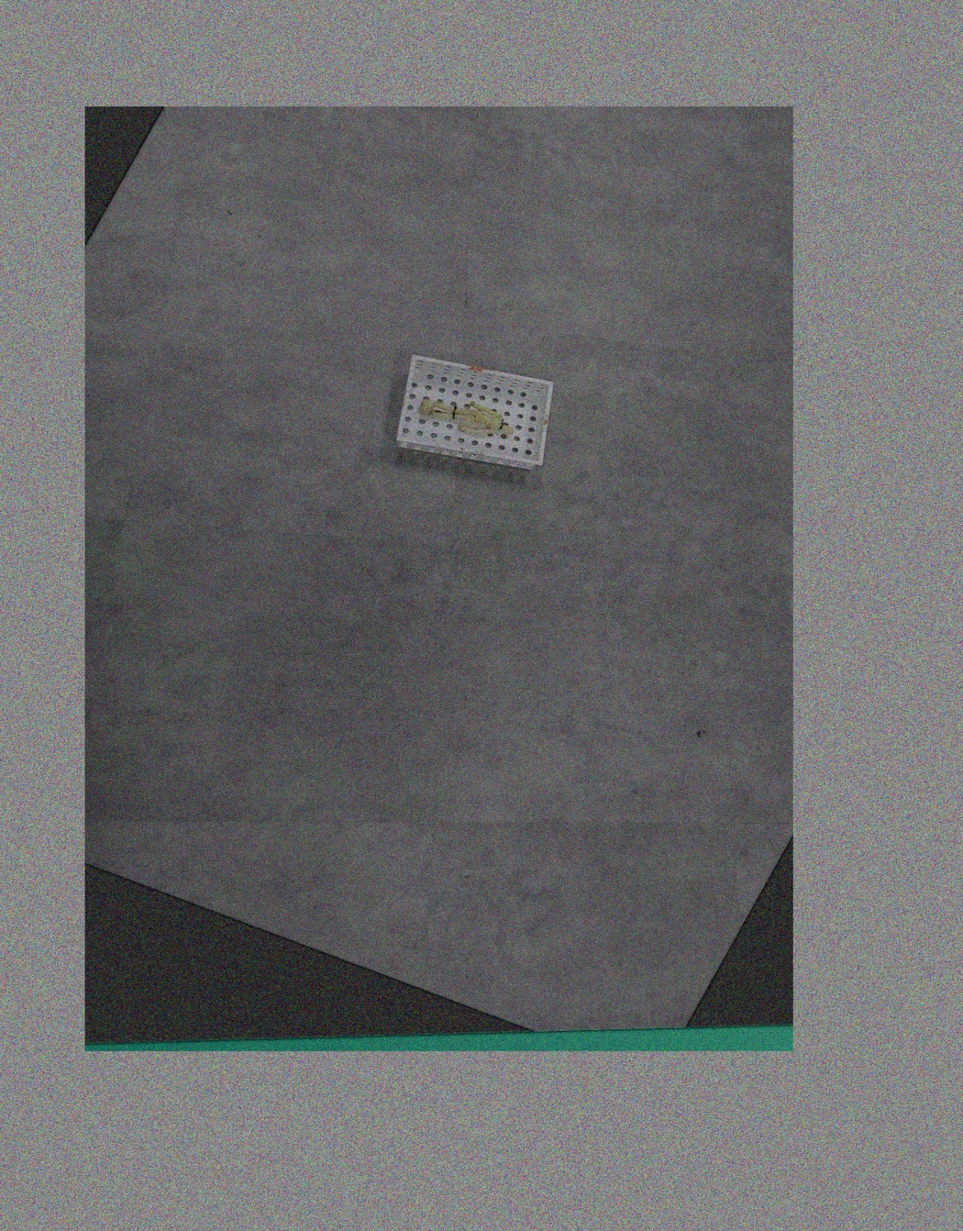basket: (395, 354, 556, 472)
mannequin: (416, 398, 515, 438)
